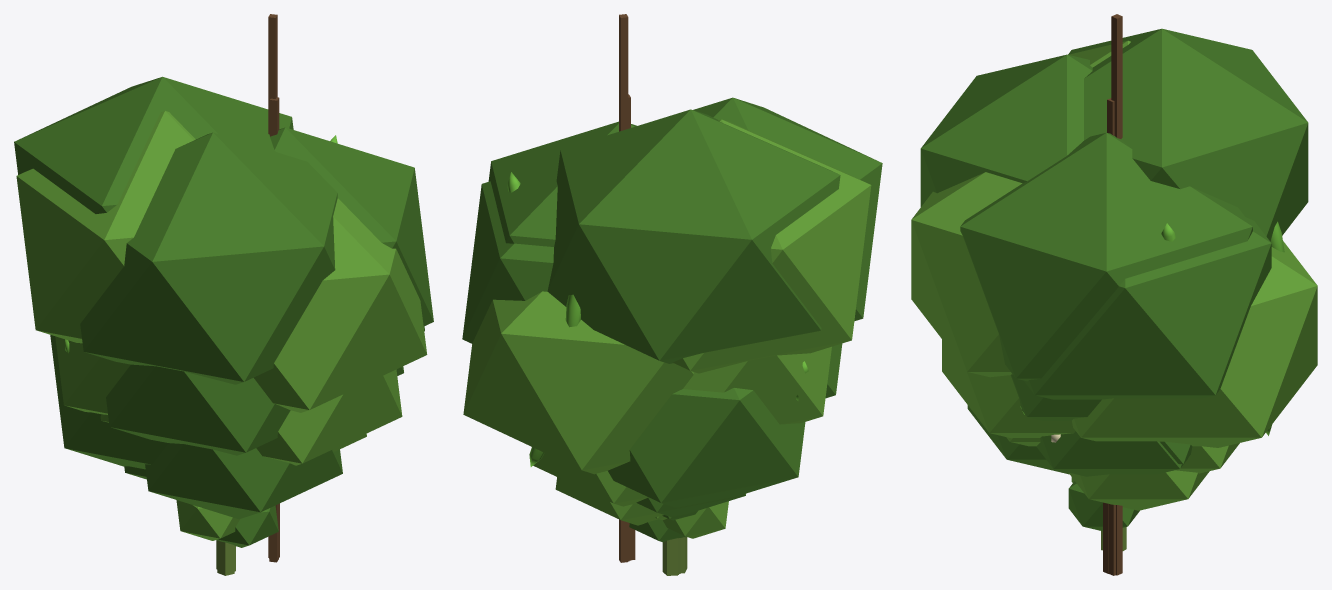
Rendered from Crop_Veg_Pea.fbx.
3 views of the same model, side by side, from view 1: azimuth 30°, elevation 25°; view 2: azimuth 150°, elevation 25°; view 3: azimuth 270°, elevation 25° (orthographic). The views are drawn at different scales.
Parts seen in each view (by area): view 1: Crop_Veg_Pea__S4, Crop_Veg_Pea__S3, Crop_Veg_Pea__S5, Crop_Veg_Pea__S1; view 2: Crop_Veg_Pea__S4, Crop_Veg_Pea__S3, Crop_Veg_Pea__S1, Crop_Veg_Pea__S2, Crop_Veg_Pea__S5; view 3: Crop_Veg_Pea__S4, Crop_Veg_Pea__S5, Crop_Veg_Pea__S3, Crop_Veg_Pea__S2, Crop_Veg_Pea__S1.
Boxes of the visible parts, x1,y1,x2,y2 form: Crop_Veg_Pea__S4: (14, 14, 433, 569); Crop_Veg_Pea__S3: (50, 97, 403, 571); Crop_Veg_Pea__S5: (100, 414, 366, 558); Crop_Veg_Pea__S1: (176, 500, 278, 575); Crop_Veg_Pea__S4: (462, 14, 882, 575); Crop_Veg_Pea__S3: (608, 94, 842, 573); Crop_Veg_Pea__S1: (629, 501, 728, 573); Crop_Veg_Pea__S2: (555, 477, 745, 525); Crop_Veg_Pea__S5: (533, 453, 679, 574); Crop_Veg_Pea__S4: (911, 14, 1317, 575); Crop_Veg_Pea__S5: (967, 405, 1239, 575); Crop_Veg_Pea__S3: (942, 98, 1114, 442); Crop_Veg_Pea__S2: (1069, 470, 1209, 575); Crop_Veg_Pea__S1: (1068, 477, 1139, 573).
Size of the model in its own units: 0.232 by 0.325 by 0.215.
